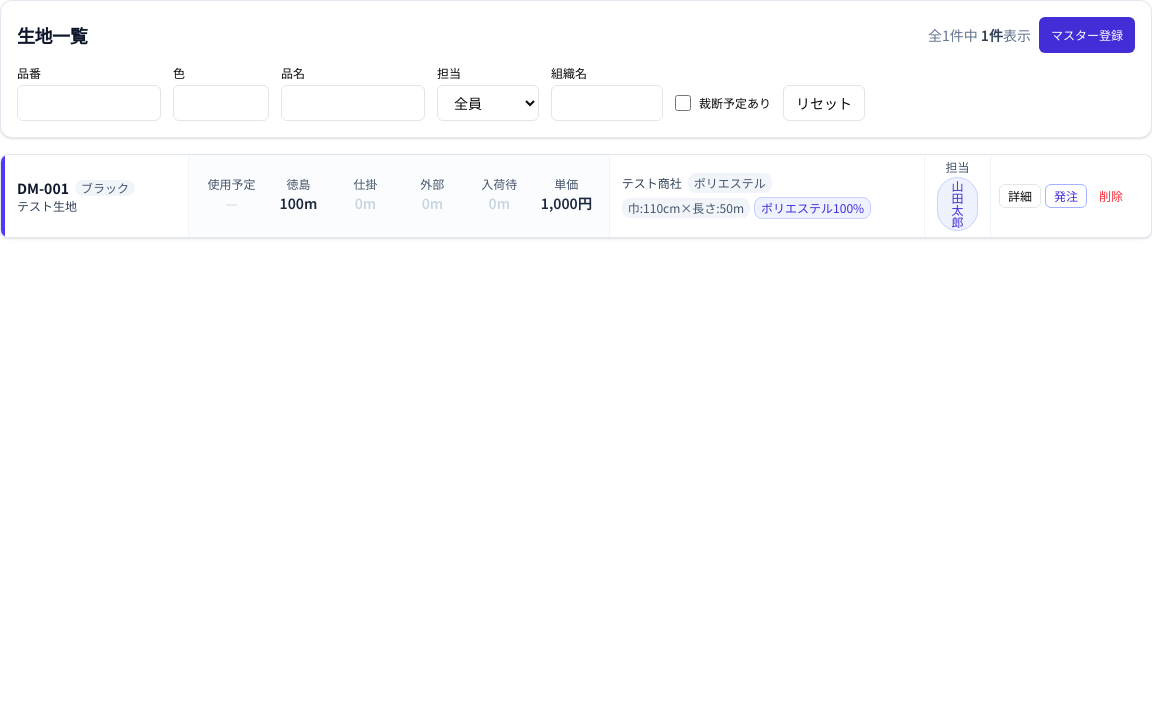
Test: ProductListTable 履歴 › 詳細ダイアログから入荷履歴を開ける
What coordinates should you click on to do the following:
click the button "詳細"
I would click on:
 (1020, 196)
Its box is top-left (999, 184), bottom-right (1041, 208).
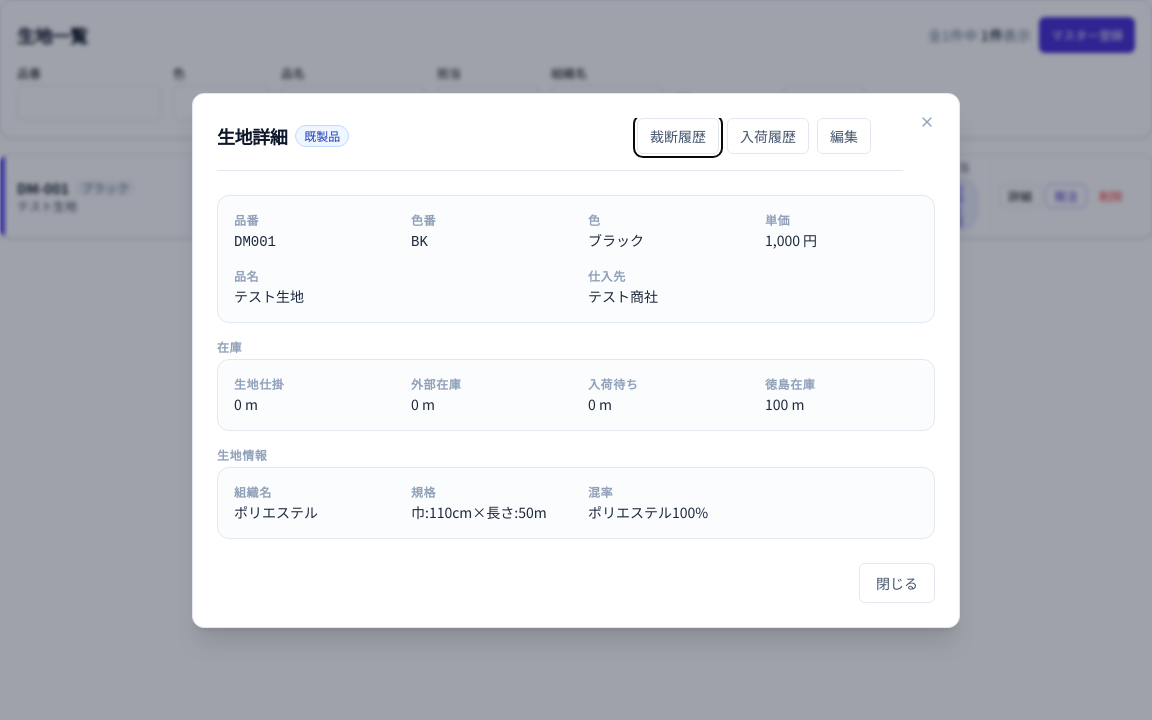
What coordinates should you click on to do the following:
click the button "入荷履歴"
I would click on:
 (768, 136)
Its box is top-left (727, 118), bottom-right (809, 154).
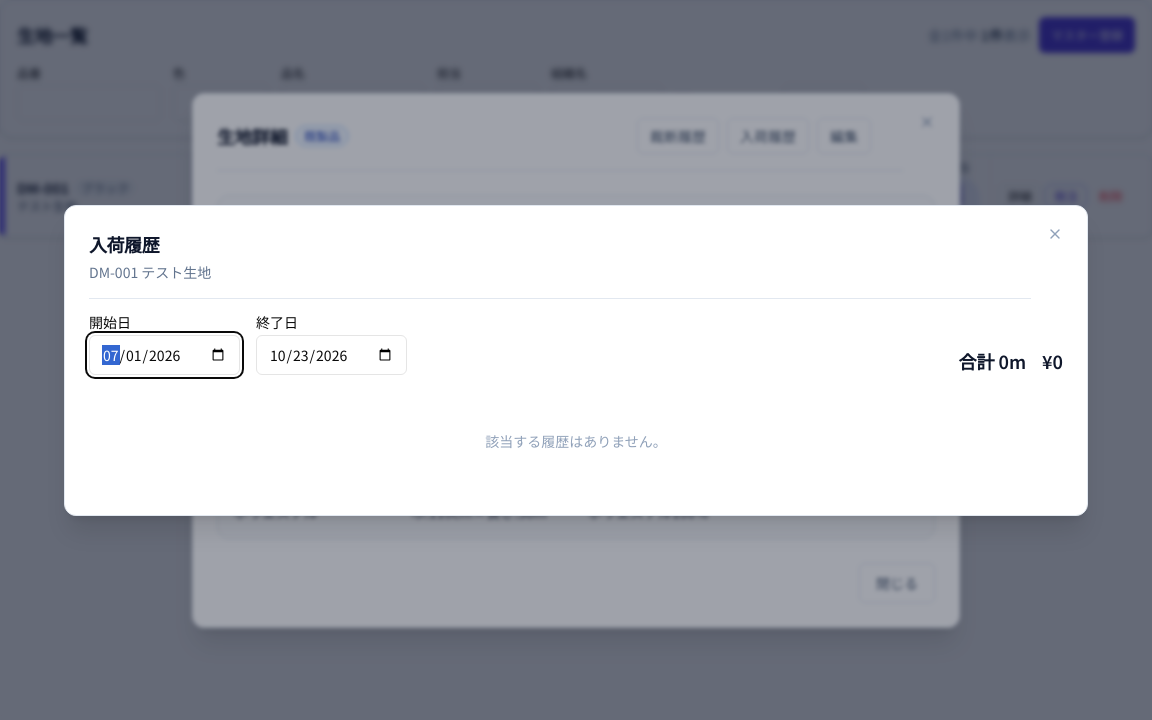
Result: the heading "入荷履歴" is shown at top-left (89, 230), bottom-right (159, 256)
